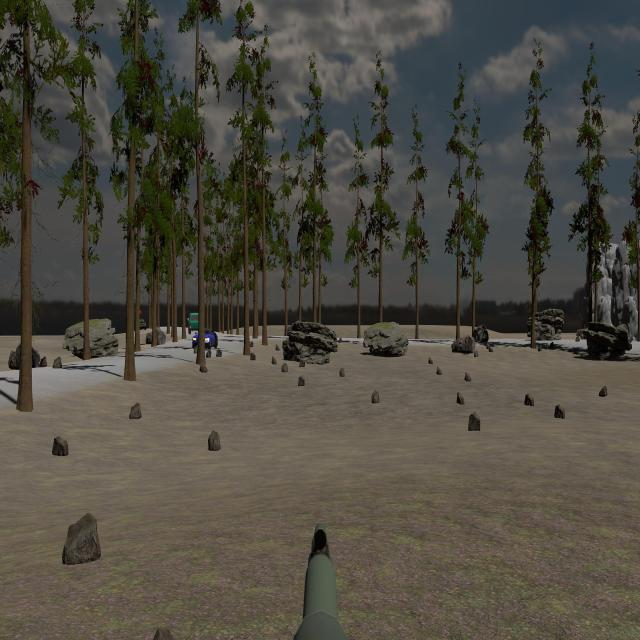car: (191, 328, 218, 351)
